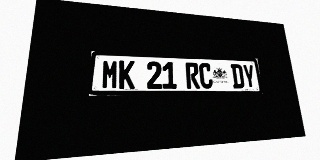1: (162, 62, 177, 89)
2: (147, 61, 162, 89)
C: (199, 63, 213, 89)
D: (230, 64, 245, 88)
K: (119, 60, 135, 89)
M: (101, 60, 119, 89)
R: (185, 62, 200, 89)
Y: (242, 64, 256, 88)
